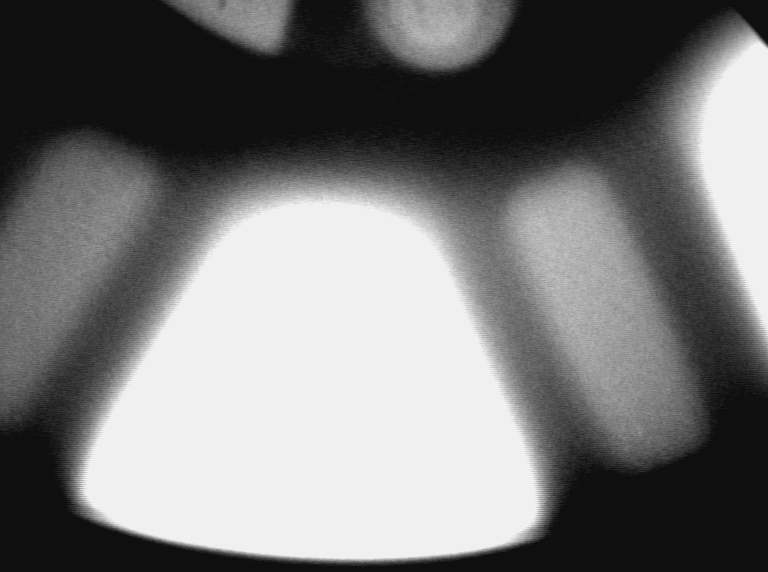defect: (629, 421, 650, 445)
